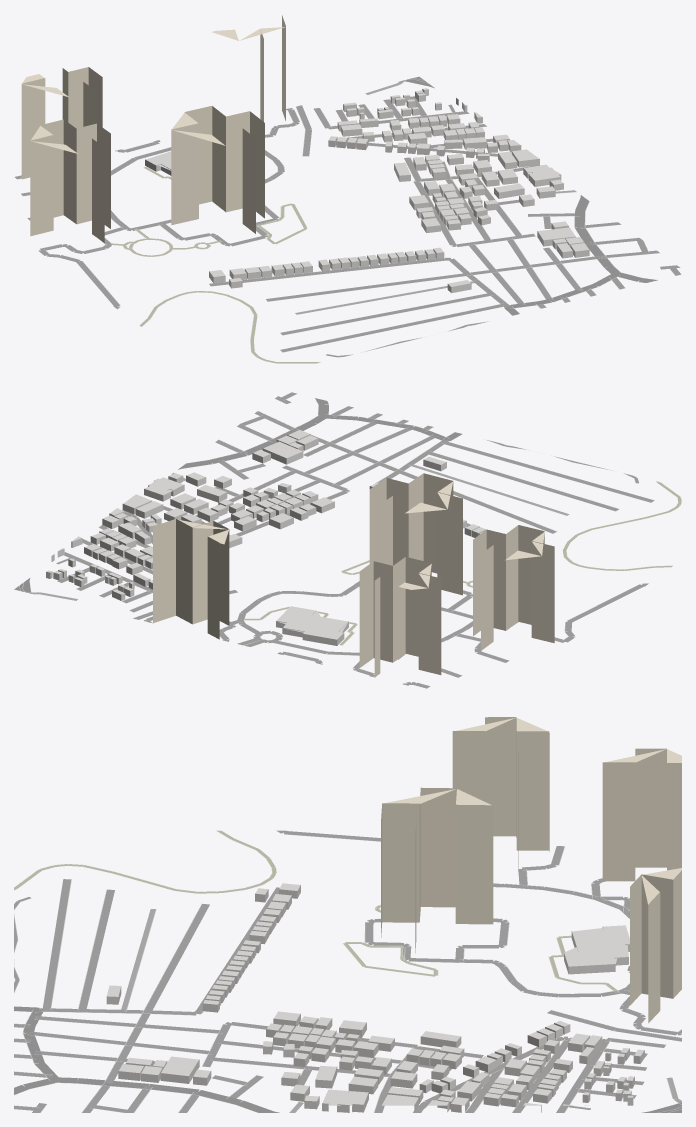
File: chunk_-3_-3.glb
3 views of the same model, one above another, from view 1: azimuth 30°, elevation 25°; view 2: azimuth 150°, elevation 25°; view 3: azimuth 270°, elevation 25° (orthographic). The views are drawn at different scales.
Parts seen in each view (by area): view 1: buildings_091_0835_069, buildings_0816_0808_0788, roads_04_04_04, roads_kerbs_markings, roads_0333_0333_0333, roads_06_06_0467, roads_0467_0467_0467; view 2: buildings_091_0835_069, buildings_0816_0808_0788, roads_04_04_04, roads_kerbs_markings, roads_0333_0333_0333, roads_06_06_0467, roads_0467_0467_0467; view 3: buildings_091_0835_069, buildings_0816_0808_0788, roads_04_04_04, roads_kerbs_markings, roads_0333_0333_0333, roads_06_06_0467, roads_0467_0467_0467.
Boxes of the visible parts, x1=… form: buildings_091_0835_069: x1=21, y1=15, x2=285, y2=242; buildings_0816_0808_0788: x1=145, y1=88, x2=589, y2=293; roads_04_04_04: x1=14, y1=77, x2=681, y2=357; roads_kerbs_markings: x1=18, y1=78, x2=675, y2=363; roads_0333_0333_0333: x1=402, y1=77, x2=657, y2=315; roads_06_06_0467: x1=110, y1=167, x2=320, y2=363; roads_0467_0467_0467: x1=295, y1=80, x2=576, y2=314; buildings_091_0835_069: x1=153, y1=473, x2=554, y2=676; buildings_0816_0808_0788: x1=46, y1=430, x2=486, y2=645; roads_04_04_04: x1=14, y1=392, x2=654, y2=688; roads_kerbs_markings: x1=19, y1=393, x2=681, y2=686; roads_0333_0333_0333: x1=15, y1=398, x2=462, y2=593; roads_06_06_0467: x1=240, y1=481, x2=681, y2=645; roads_0467_0467_0467: x1=32, y1=464, x2=569, y2=600; buildings_091_0835_069: x1=381, y1=717, x2=681, y2=1023; buildings_0816_0808_0788: x1=106, y1=883, x2=644, y2=1112; roads_04_04_04: x1=14, y1=830, x2=681, y2=1112; roads_kerbs_markings: x1=14, y1=830, x2=681, y2=1112; roads_0333_0333_0333: x1=14, y1=1006, x2=681, y2=1112; roads_06_06_0467: x1=14, y1=830, x2=619, y2=992; roads_0467_0467_0467: x1=121, y1=909, x2=681, y2=1112.
Bounding box in the file's own units: 500 × 98.45 × 500.
